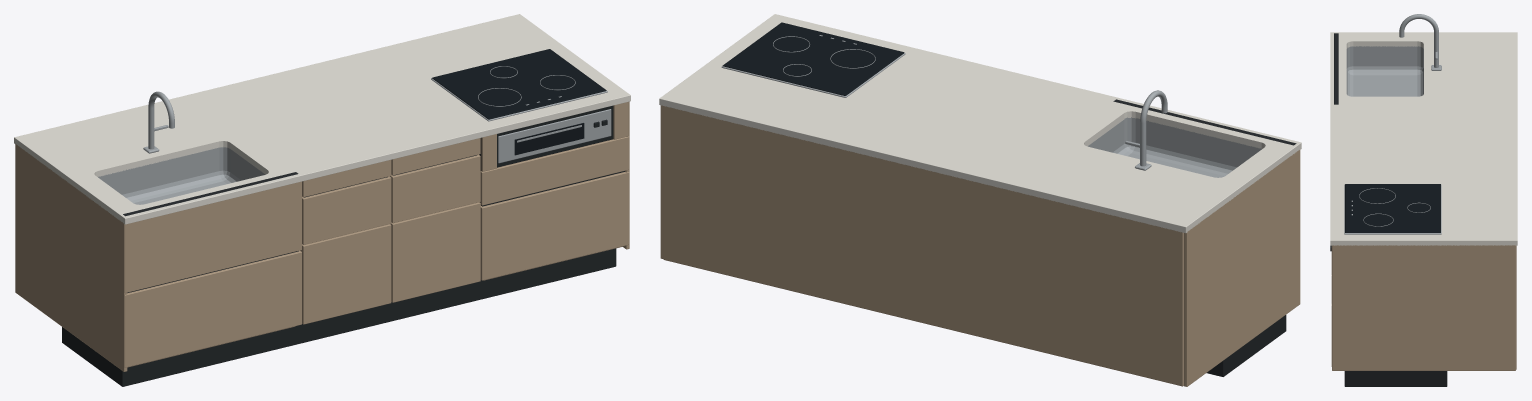
File: original-kitchen-p2550-970-no-dw.glb
The picture shows the model from 3 angles, left to right: view 1: azimuth 30°, elevation 25°; view 2: azimuth 150°, elevation 25°; view 3: azimuth 270°, elevation 25°; orthographic projection. The views are drawn at different scales.
Parts seen in each view (by area): view 1: original-kitchen-p2550-970-no-dw; view 2: original-kitchen-p2550-970-no-dw; view 3: original-kitchen-p2550-970-no-dw.
Boxes of the visible parts, x1,y1,x2,y2 form: original-kitchen-p2550-970-no-dw: (14, 14, 630, 386); original-kitchen-p2550-970-no-dw: (659, 14, 1301, 386); original-kitchen-p2550-970-no-dw: (1330, 14, 1517, 386).
Size of the model in its own units: 2.55 by 1.16 by 0.97.
